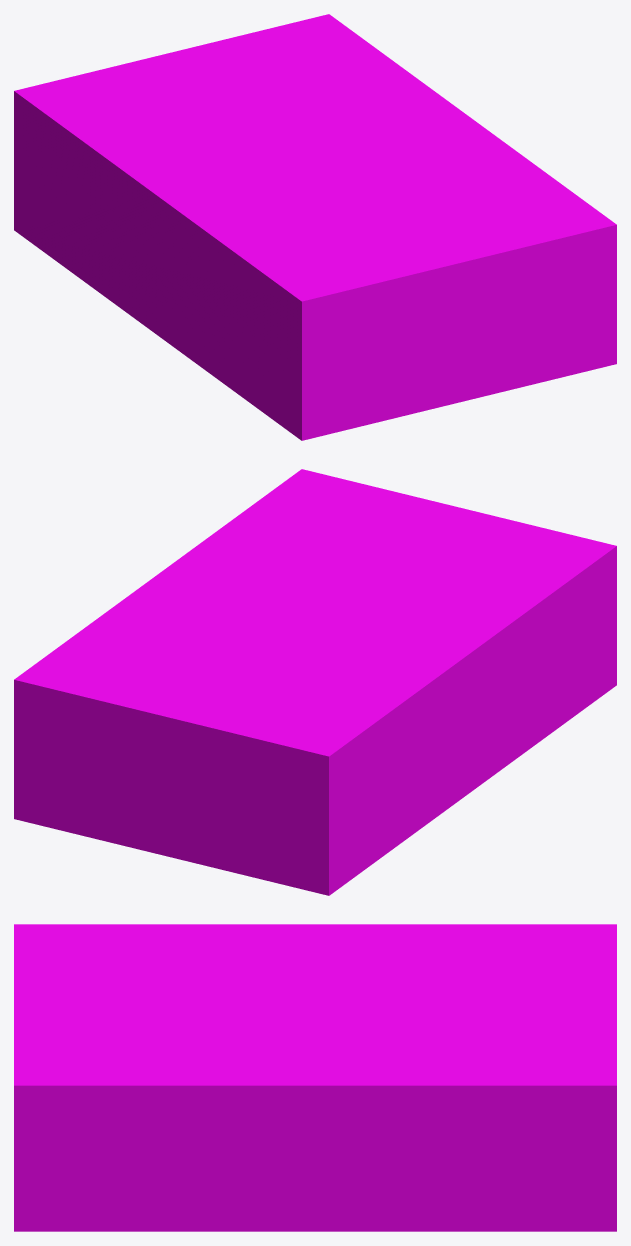
File: platform_20x32.glb
3 renders of one model, top to bottom at view 1: azimuth 30°, elevation 25°; view 2: azimuth 150°, elevation 25°; view 3: azimuth 270°, elevation 25°, orthographic. The views are drawn at different scales.
Parts seen in each view (by area): view 1: Cube_015-mesh; view 2: Cube_015-mesh; view 3: Cube_015-mesh.
Boxes of the visible parts, box(x1,y1,x2,y2) form: Cube_015-mesh: box(14, 14, 616, 440); Cube_015-mesh: box(14, 469, 616, 895); Cube_015-mesh: box(14, 924, 616, 1231).
Size of the model in its own units: 20.34 by 8.59 by 32.18.
